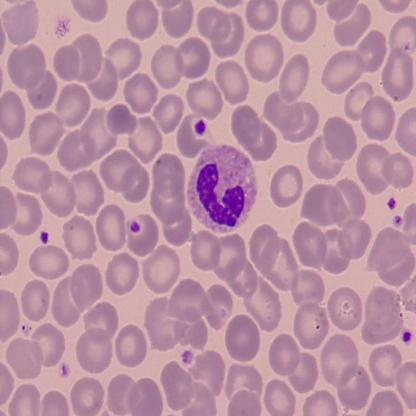Band Neutrophil: (185, 141, 261, 237)
